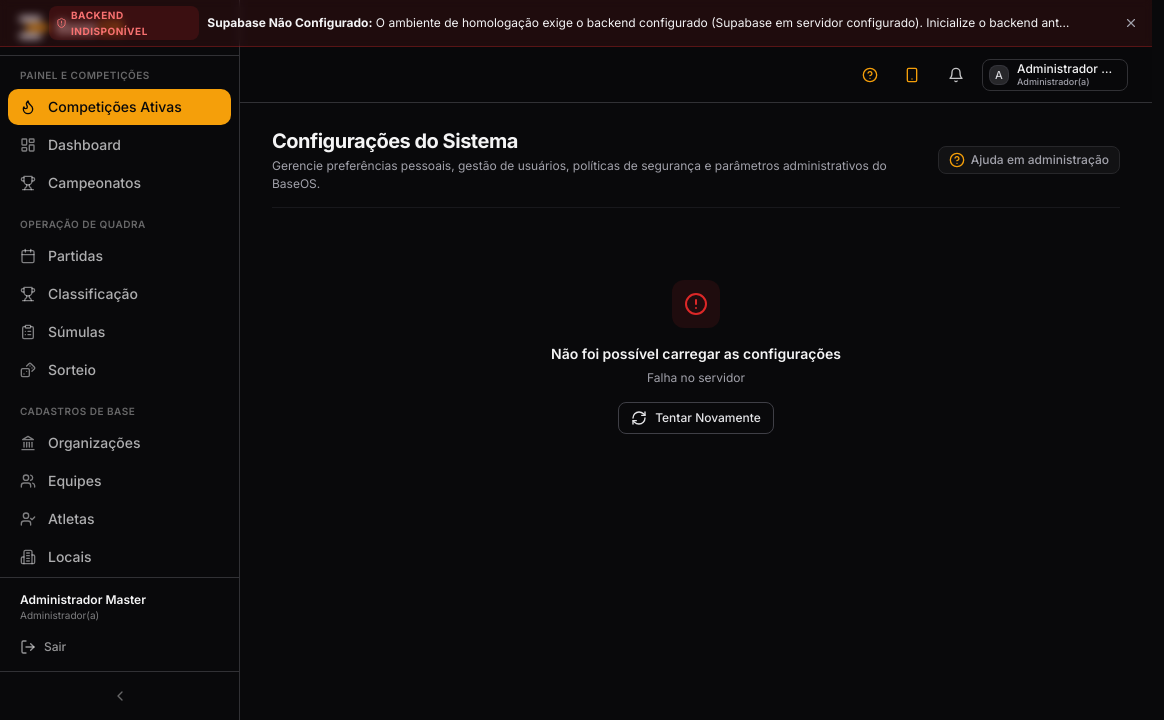
Test case: SettingsPage Component (Fase 8.4) › exibe estado de erro com retry quando o carregamento falha
Check: the message "Não foi possível carregar as configurações Falha no servidor Tentar Novamente" is shown, box [551,280,841,434]
Check: the text "Não foi possível carregar as configurações" is shown, box [551,344,841,364]
Click the button "Tentar Novamente". click: (696, 418)
box: [618,402,774,434]
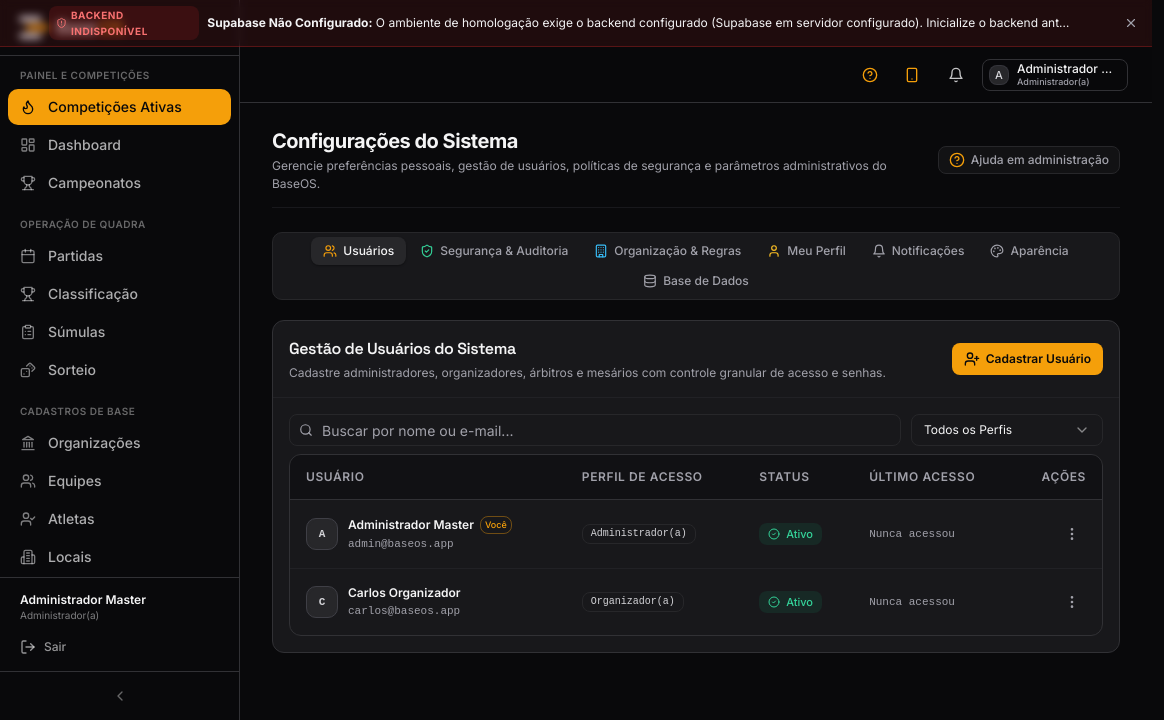
Check: the text "Carlos Organizador" is shown, box [348,584,461,600]
